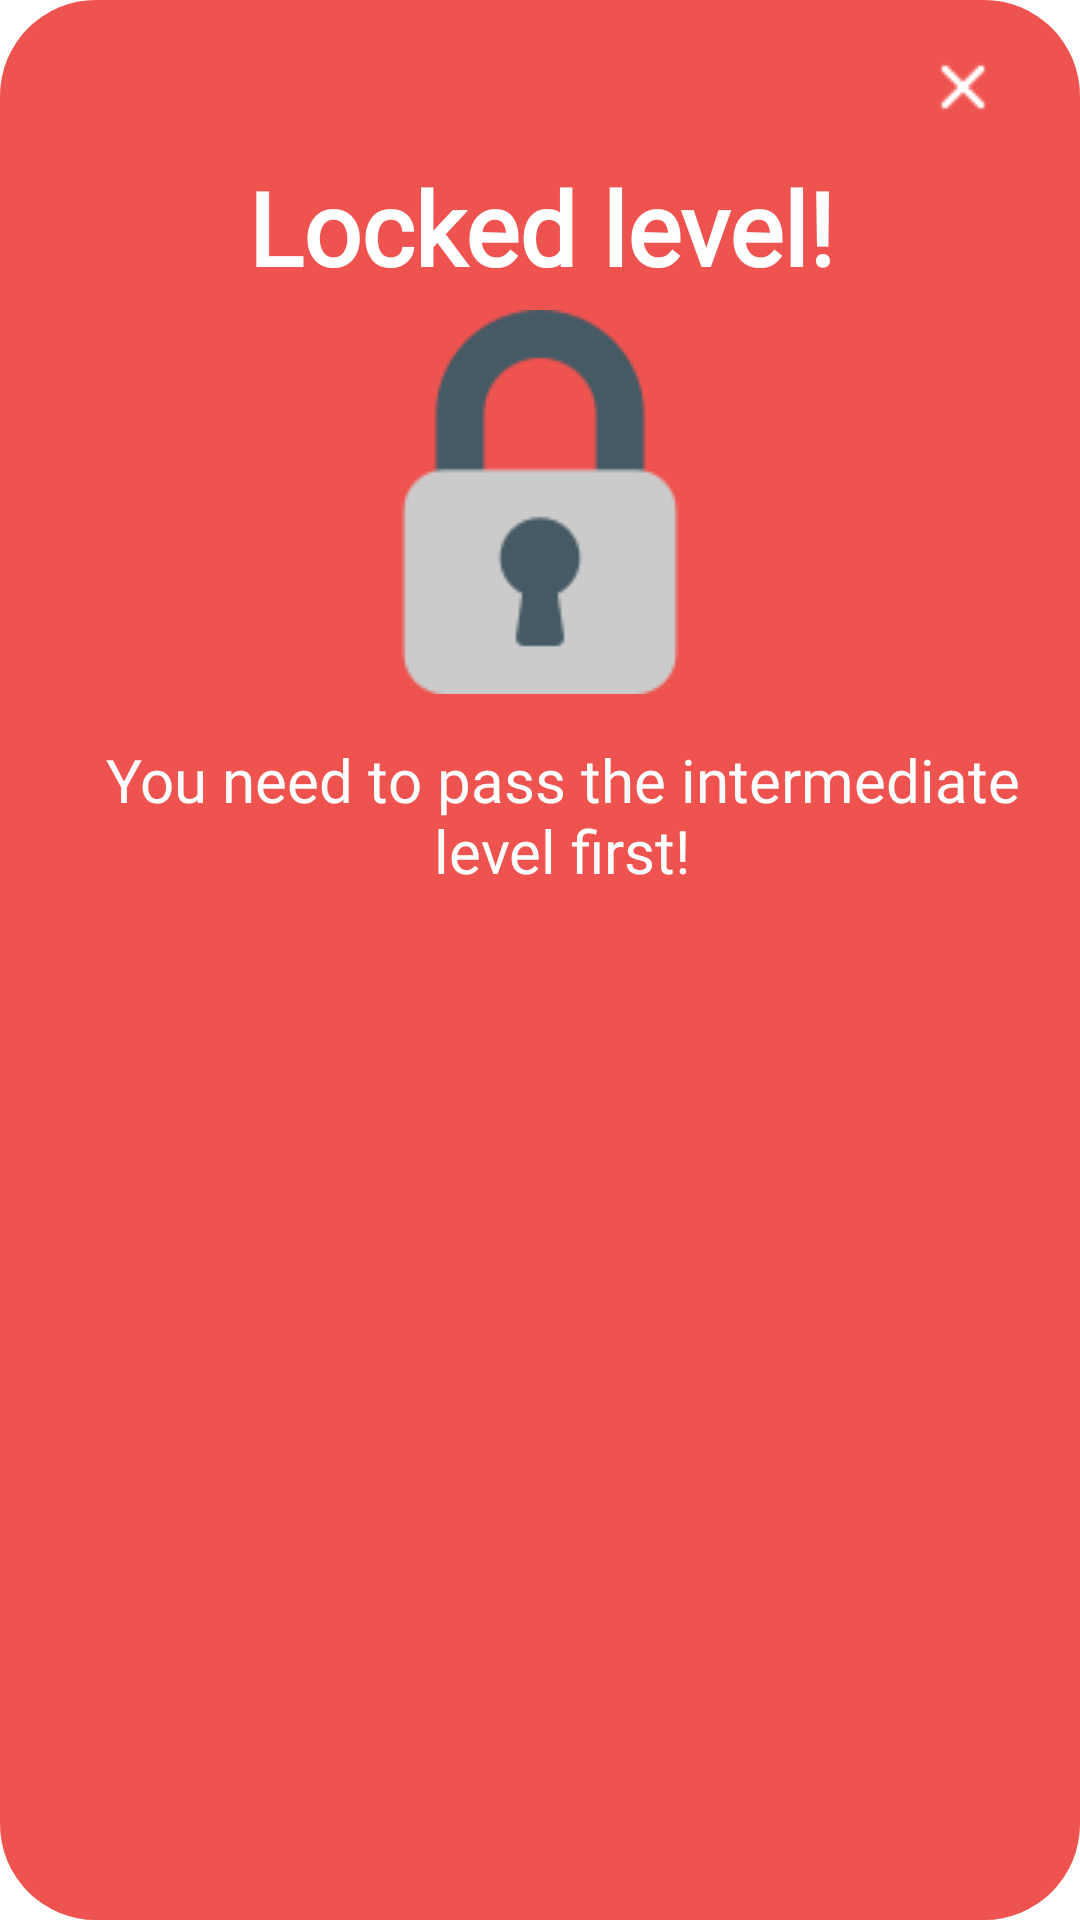

Icon bounding boxes for this 1080px x 1920px phone screenshot, format region(x1, y1, x2, y2):
close: region(941, 65, 985, 109)
